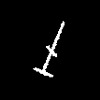double_crochet: (34, 22, 63, 76)
